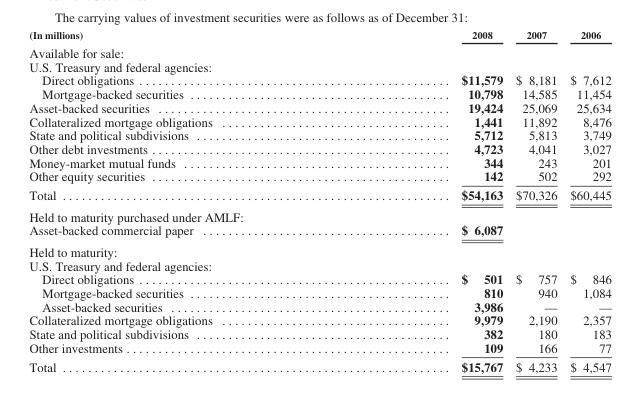table: (28, 28, 610, 373)
table column: (28, 28, 336, 373), (336, 28, 508, 373), (508, 28, 563, 373), (563, 28, 610, 373)
table column header: (28, 28, 610, 42)
table projected row header: (28, 205, 610, 223), (28, 240, 610, 258), (28, 42, 610, 59), (28, 59, 610, 72), (28, 258, 610, 271)
table row: (28, 185, 610, 205), (28, 205, 610, 223), (28, 240, 610, 258), (28, 42, 610, 59), (28, 223, 610, 240), (28, 356, 610, 373), (28, 169, 610, 185), (28, 340, 610, 356), (28, 28, 610, 42), (28, 72, 610, 86), (28, 86, 610, 100), (28, 100, 610, 114), (28, 127, 610, 141), (28, 141, 610, 155), (28, 155, 610, 169), (28, 271, 610, 285), (28, 285, 610, 299), (28, 299, 610, 313), (28, 326, 610, 340), (28, 59, 610, 72), (28, 114, 610, 127), (28, 258, 610, 271), (28, 313, 610, 326)
